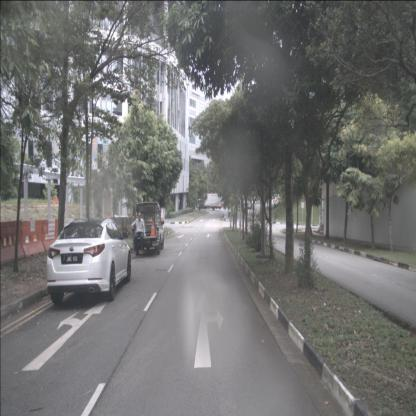human-pedestrian-adult: (130, 213, 146, 255)
movable_object-barrier: (0, 219, 25, 266), (19, 220, 45, 258), (40, 220, 61, 253), (113, 217, 123, 236), (121, 217, 129, 237), (126, 218, 134, 234)
movable_object-trafficcone: (149, 218, 156, 237)
vehicle-car: (46, 218, 132, 304), (243, 200, 252, 210)
vehicle-truck: (132, 202, 164, 255), (197, 194, 222, 210)
